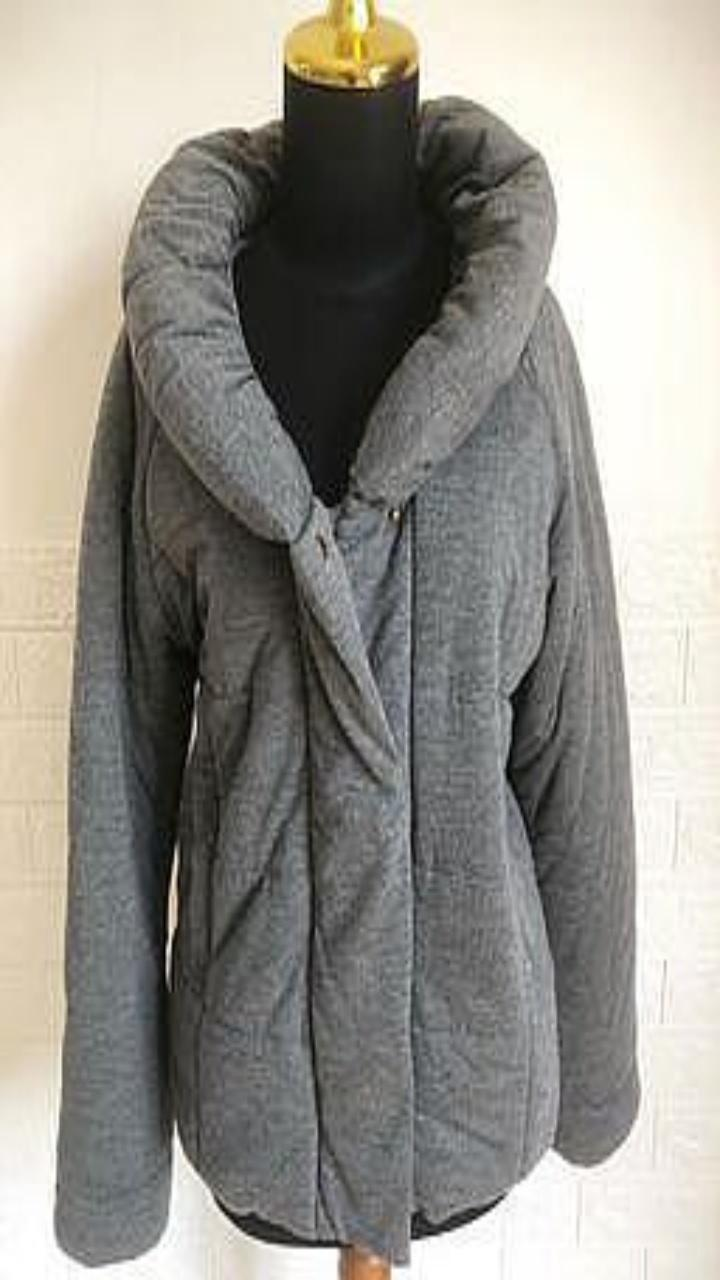Coat: (54, 95, 639, 1264)
